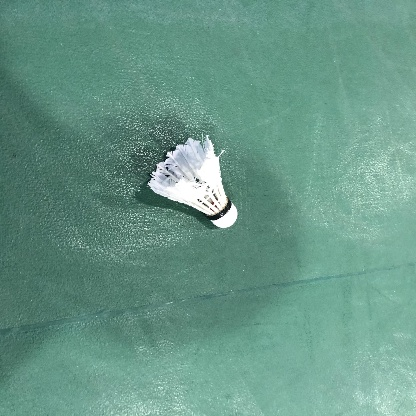ball_single: (148, 135, 237, 228)
